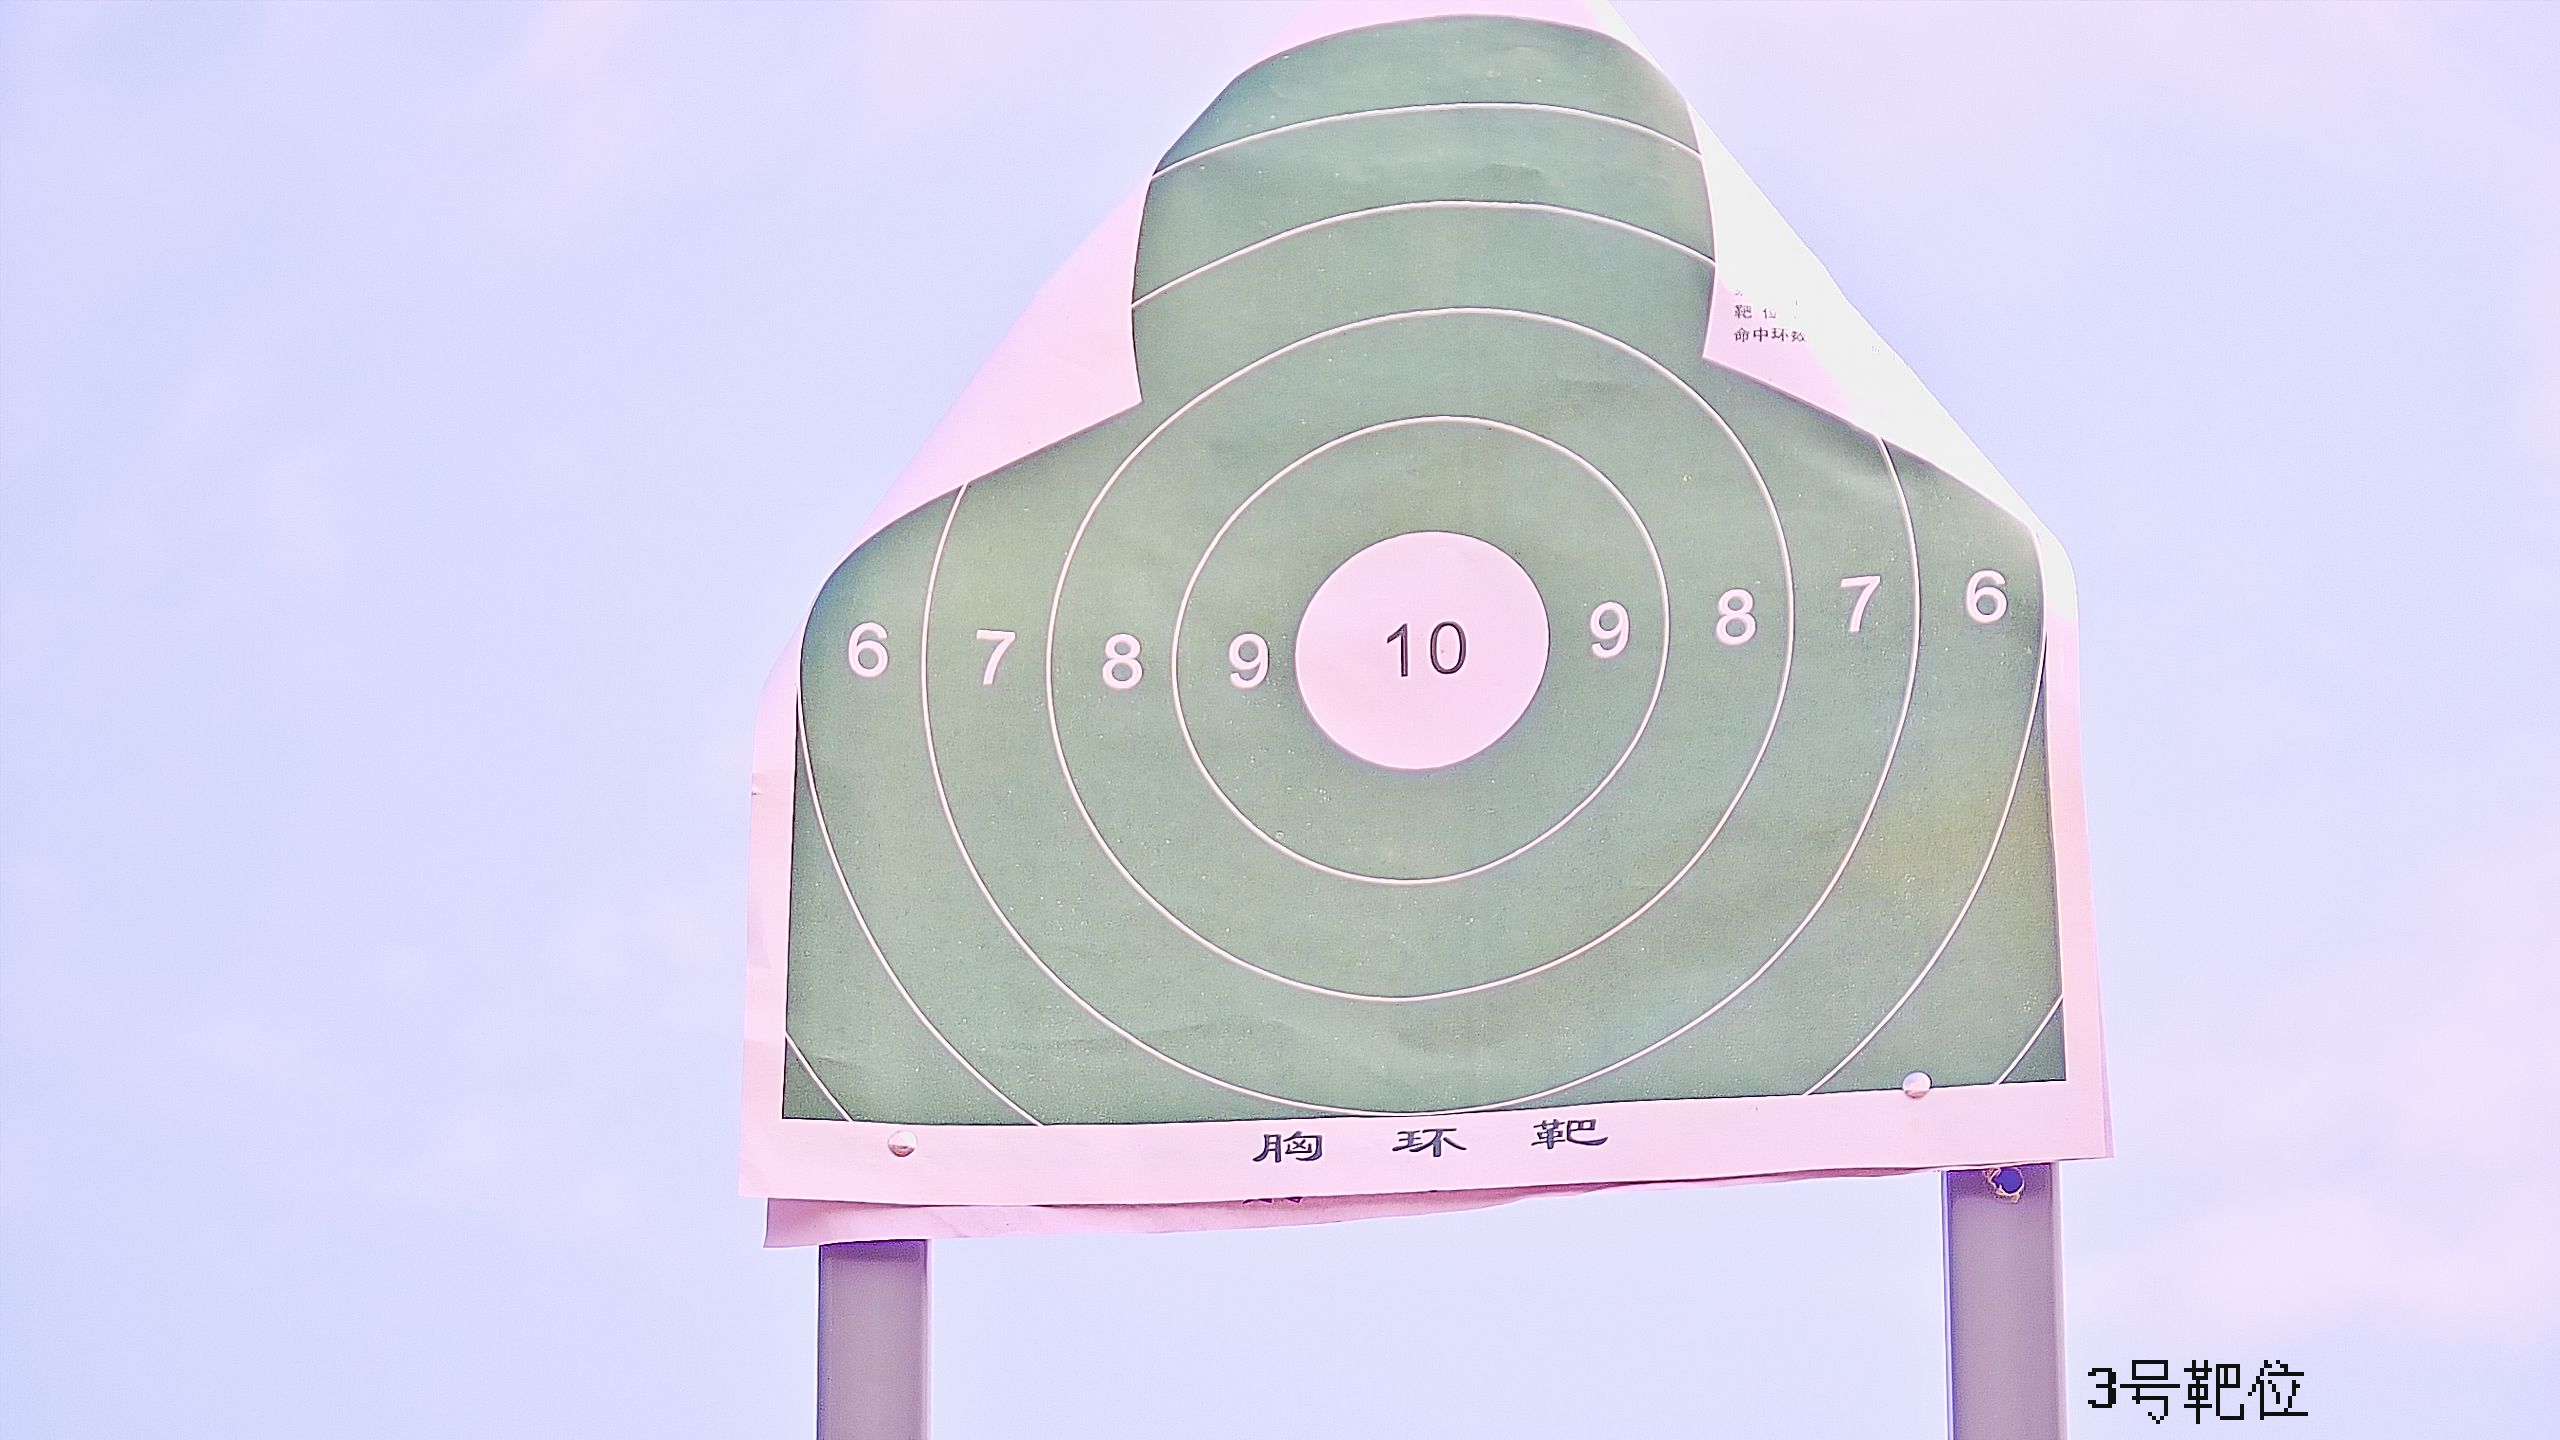kernel: (1422, 645, 1424, 654)
target: (781, 16, 2068, 1124)
ten: (1291, 529, 1554, 772)
